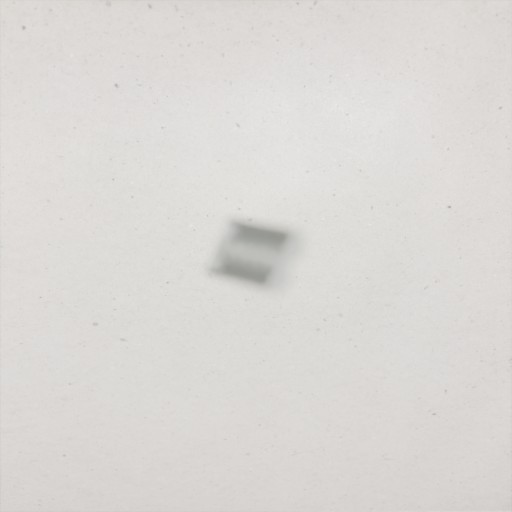lego: (203, 217, 308, 297)
